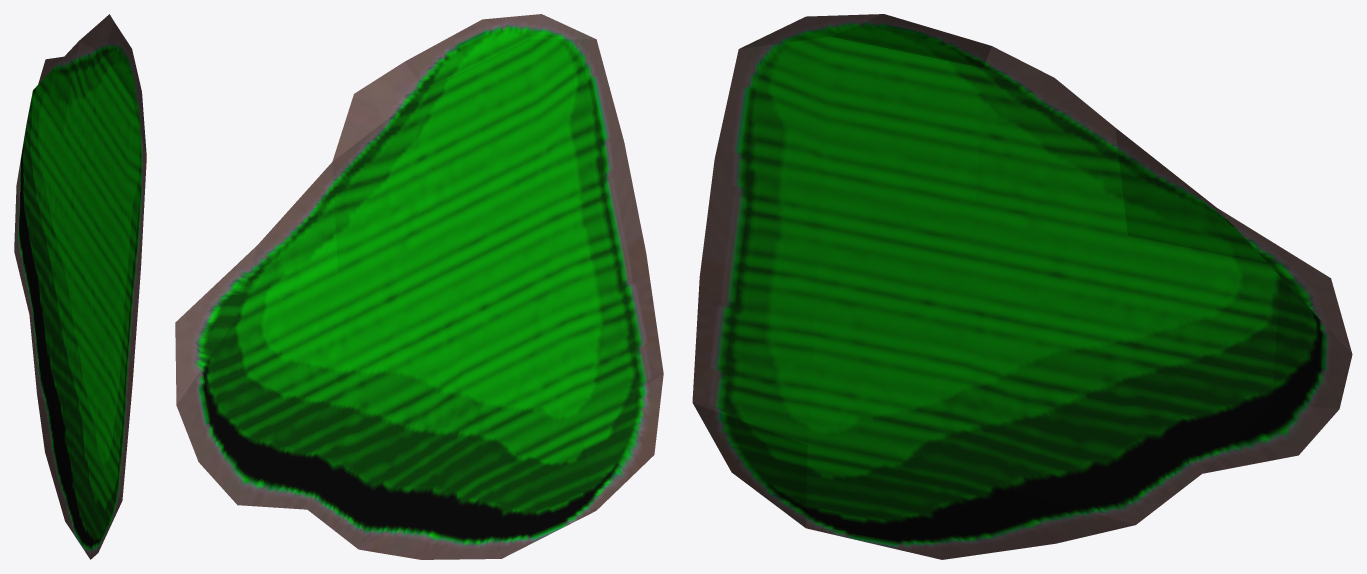
The model's file is tv-play-hovering.glb.
3 views of the same model, side by side, from view 1: azimuth 30°, elevation 25°; view 2: azimuth 150°, elevation 25°; view 3: azimuth 270°, elevation 25° (orthographic). The views are drawn at different scales.
Parts seen in each view (by area): view 1: interactionb-button; view 2: interactionb-button; view 3: interactionb-button.
Boxes of the visible parts, bbox=[...] form: interactionb-button: bbox=[14, 14, 146, 559]; interactionb-button: bbox=[175, 14, 663, 559]; interactionb-button: bbox=[692, 14, 1352, 559].
Size of the model in its own units: 0.3465 by 0.7972 by 0.8356.
Materials: 1 (1 with a texture image).
